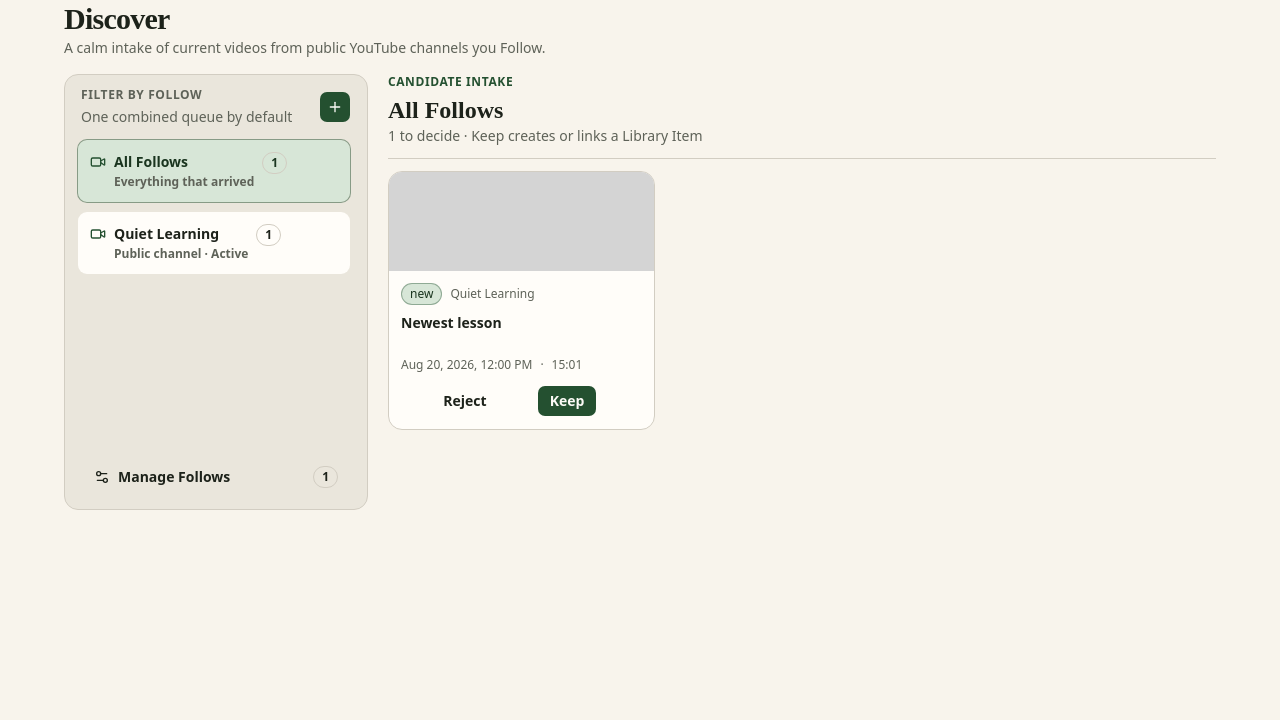
Test: Discover channel preview › Keeps an edited title and Type then removes the resolved Candidate
Click the button with aria-label "Keep Newest lesson" at (567, 401), box [537,385,597,417]
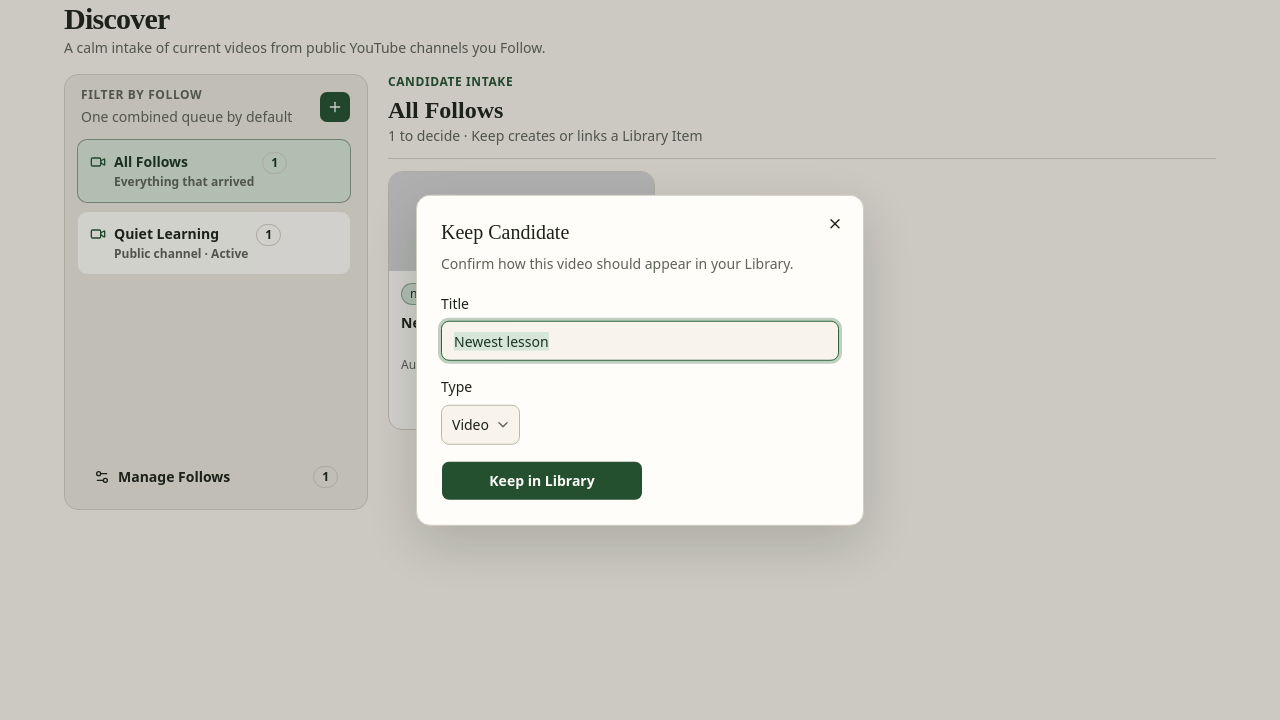
Replace the text in the field labelled "Title" with "Confirmed lesson" at (640, 341), box [441,321,839,361]
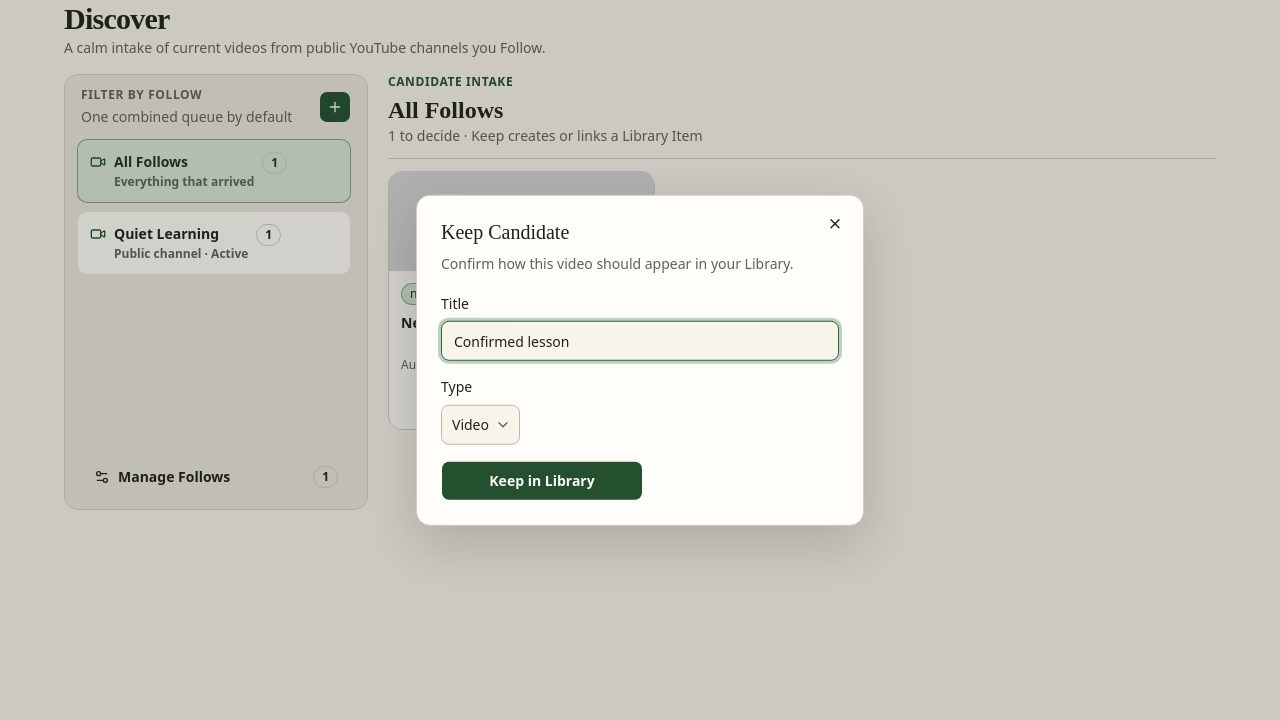
Click the dropdown named "Type" at (480, 424), box [441,404,520,444]
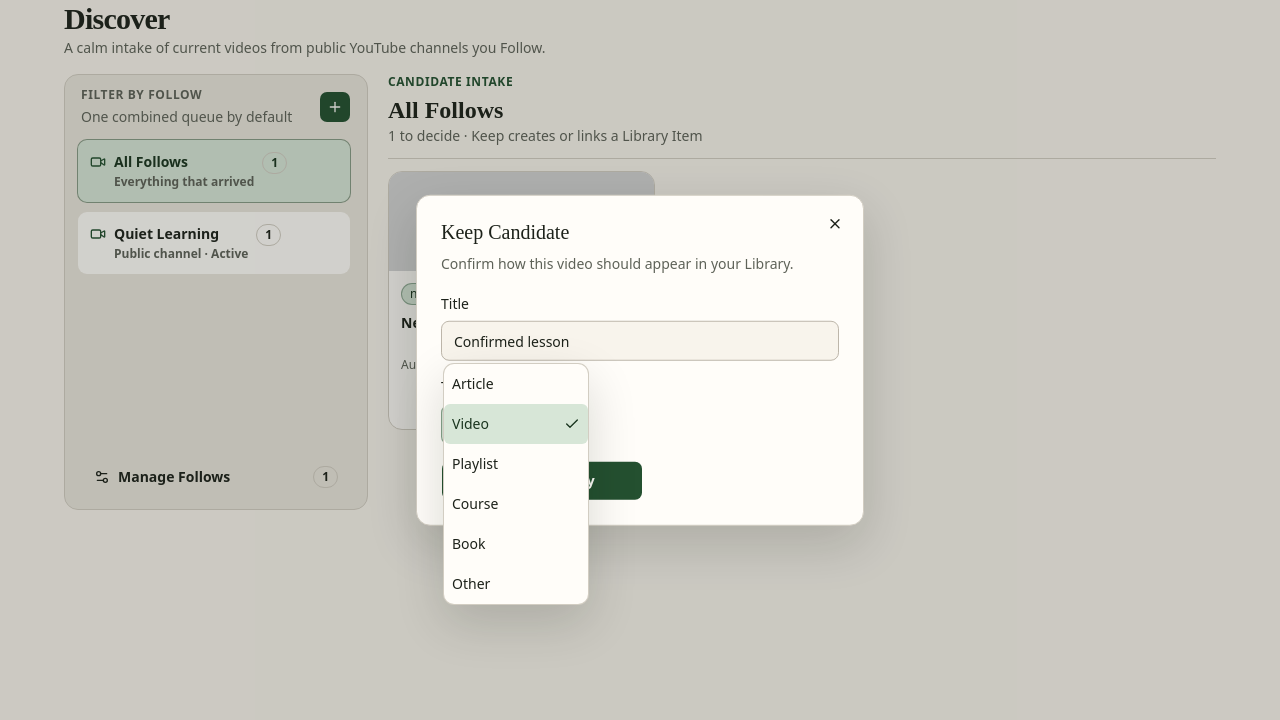
Click the option "Course" at (475, 504), box [452,494,498,513]
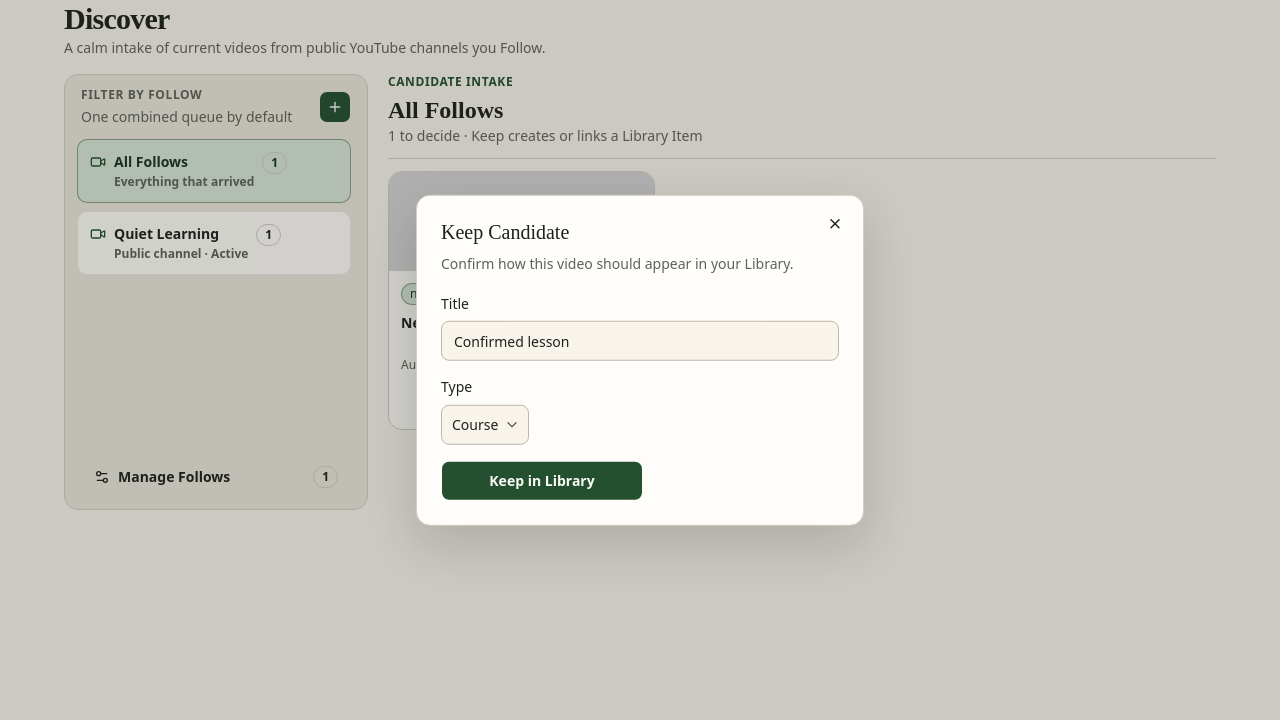
Click the button "Keep in Library" at (542, 480), box [441,460,643,500]
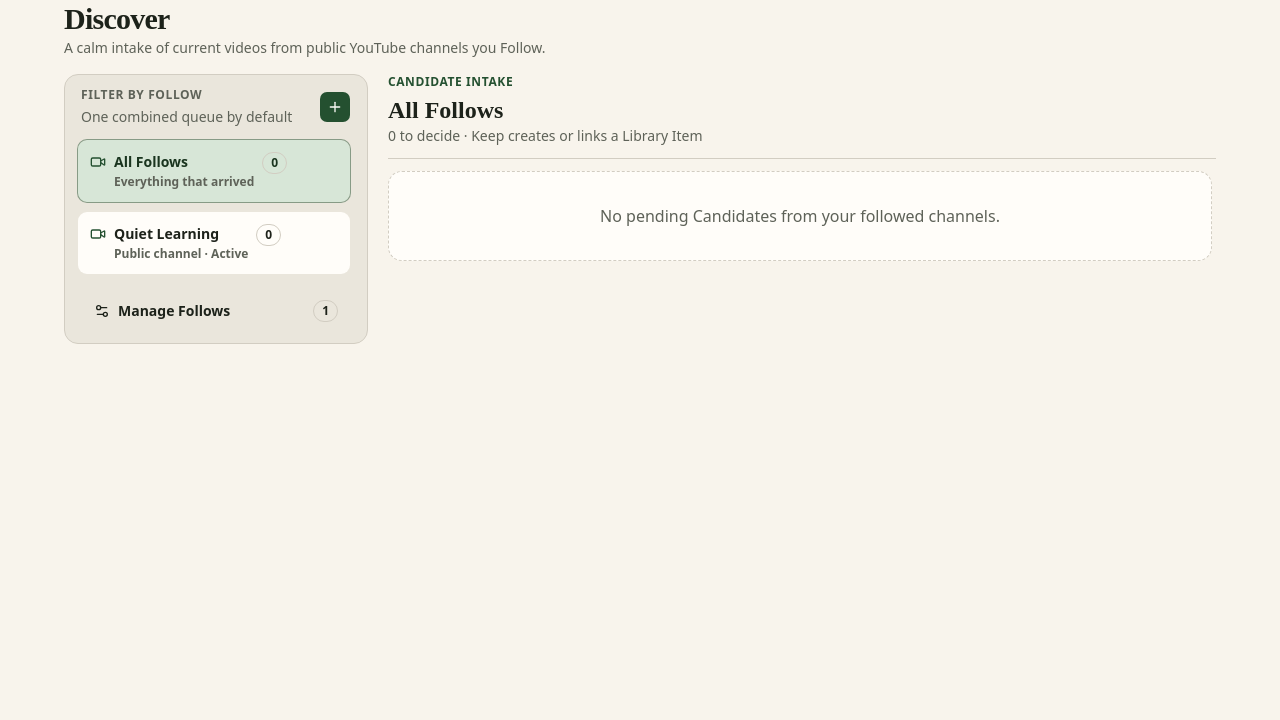
Check: the link "Newest lesson" is gone
